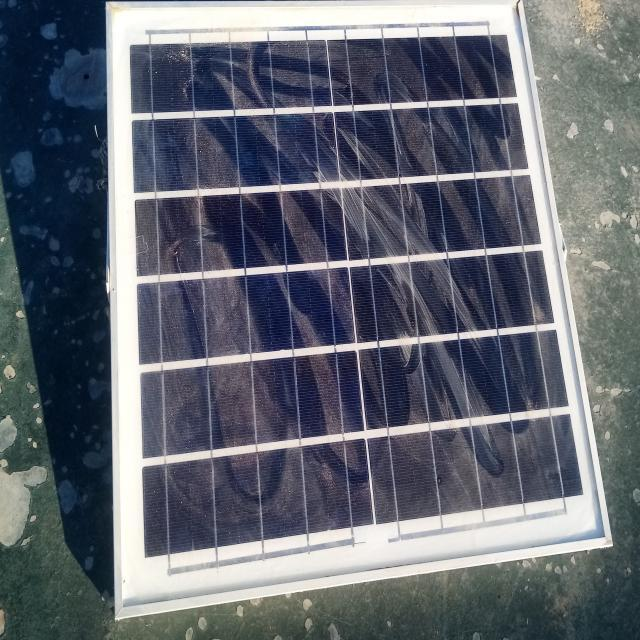faulty: (106, 2, 611, 611)
